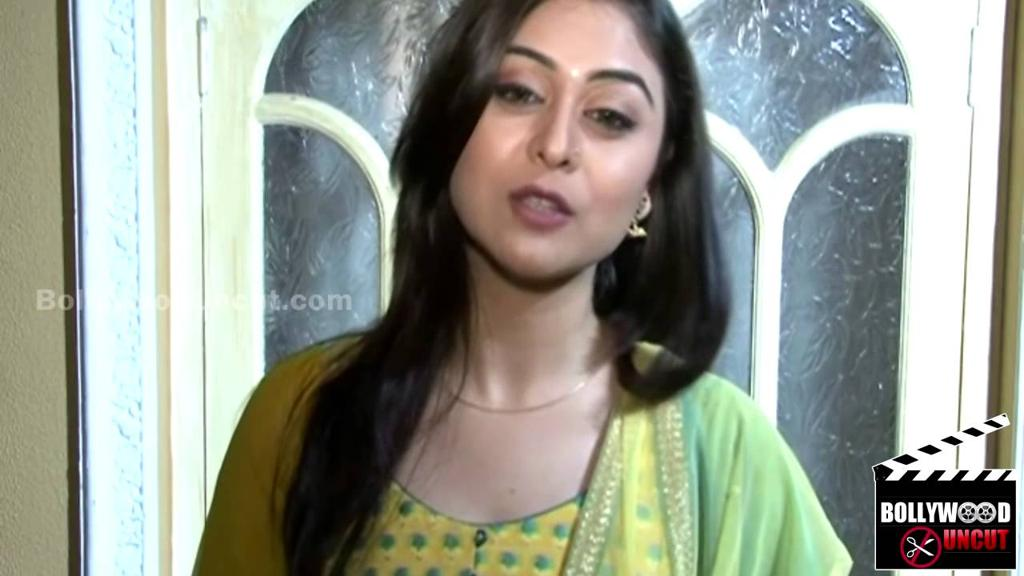face: (450, 2, 666, 284)
